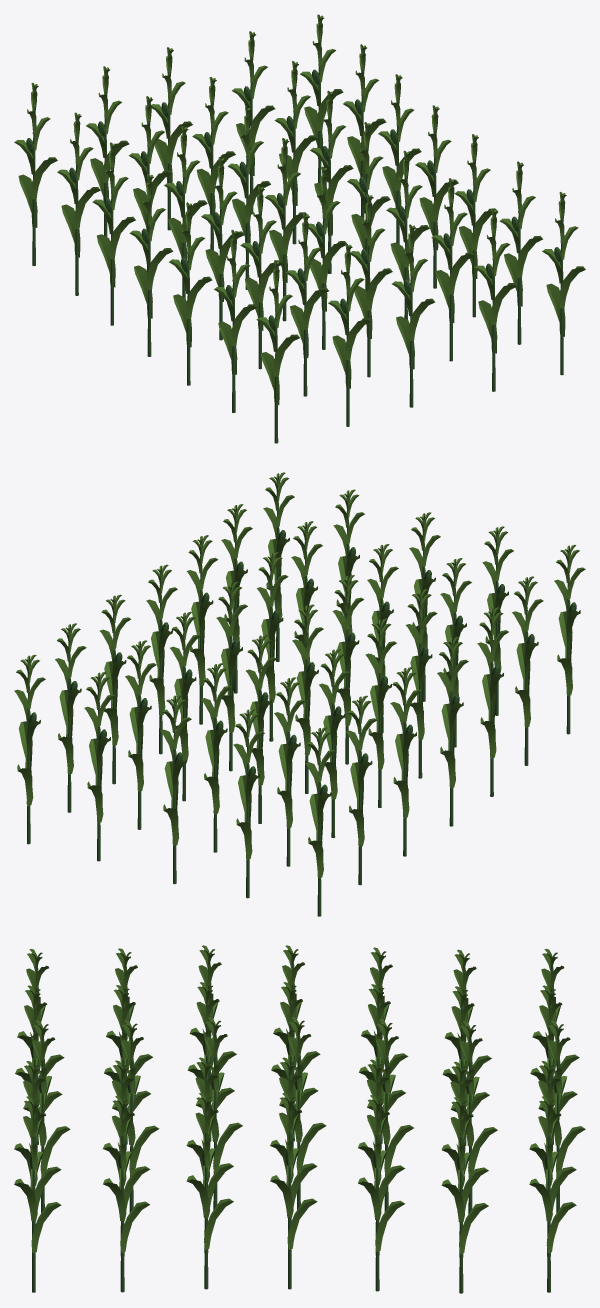
File: CORN.034.fbx
3 renders of one model, top to bottom at view 1: azimuth 30°, elevation 25°; view 2: azimuth 150°, elevation 25°; view 3: azimuth 270°, elevation 25°, orthographic. The views are drawn at different scales.
Visible parts, largest first — view 1: CORN.033; view 2: CORN.033; view 3: CORN.033.
Boxes of the visible parts, x1,y1,x2,y2 form: CORN.033: (14,14,585,443); CORN.033: (14,472,585,916); CORN.033: (14,945,585,1293).
Size of the model in its own units: 4.61 by 2.48 by 6.63.
